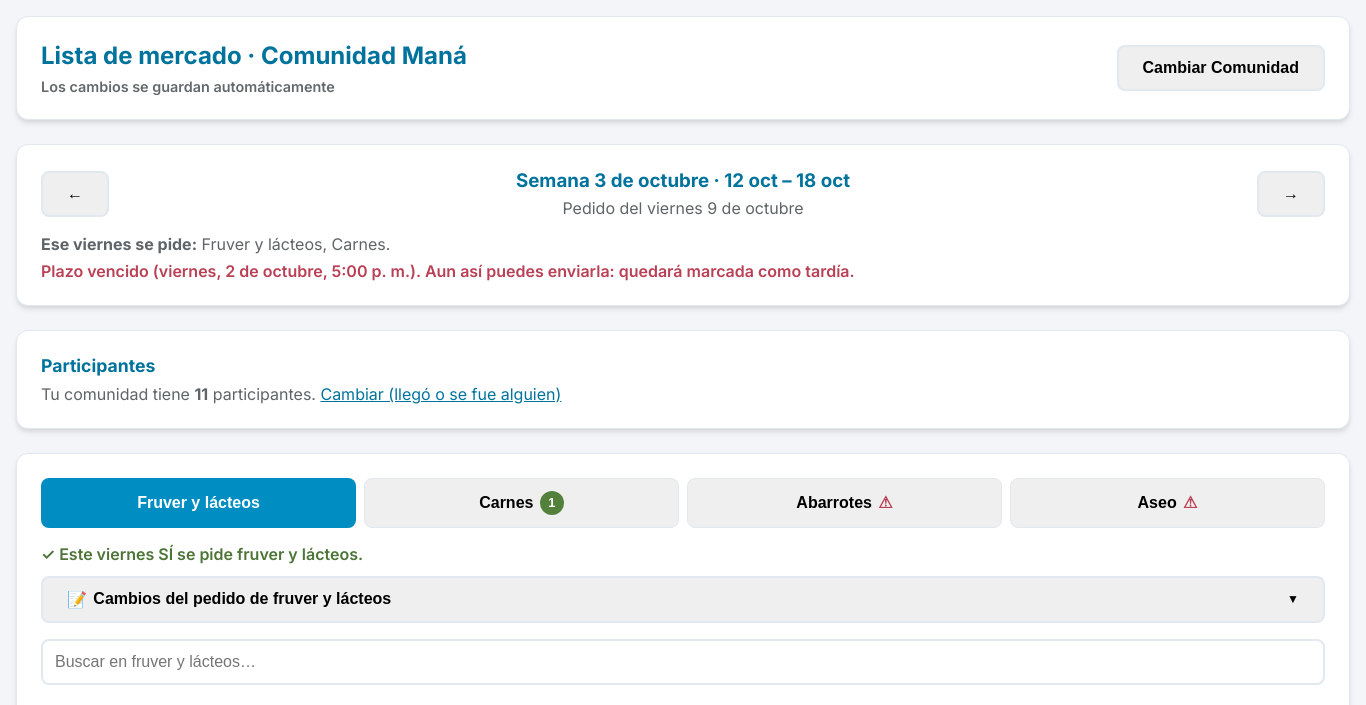
lista de mercado de la comunidad: toasts › agregar, editar y quitar un cambio avisan cada uno
Click the button "📝 Cambios del pedido de fruver y lácteos ▼": click(183, 599) [41,576,1325,623]
(page scrolled)
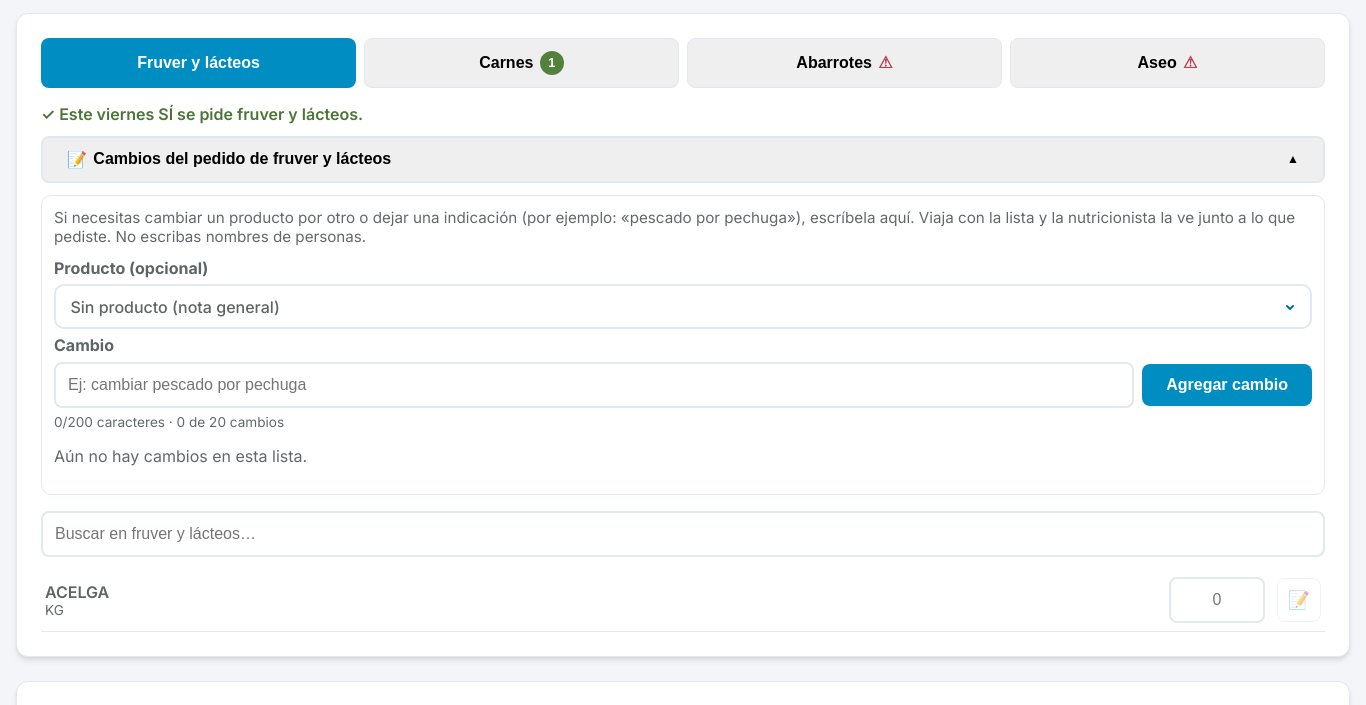
In the field labelled "Cambio": (594, 385) [54,362,1134,408], type "Entregar temprano"
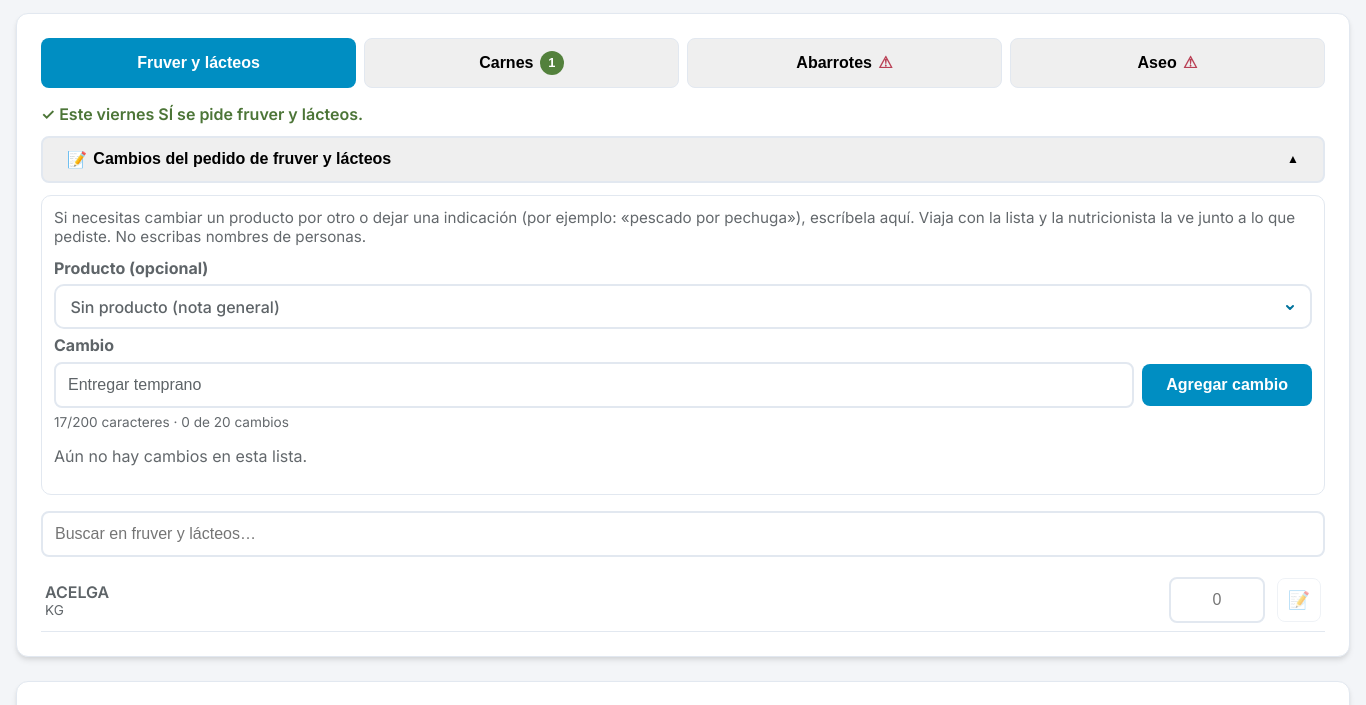
Click the button "Agregar cambio": click(1227, 385) [1142,364,1312,406]
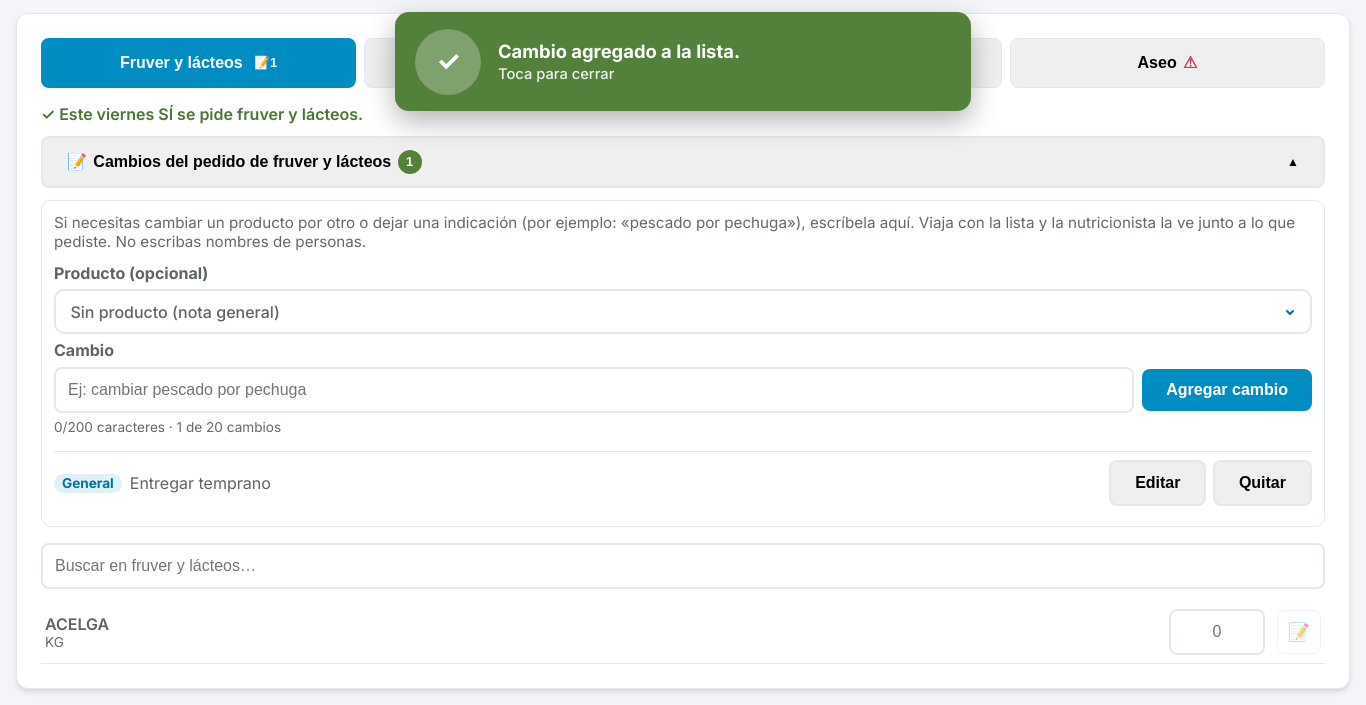
Click the button with aria-label "Editar el cambio: Entregar temprano": click(1158, 483) [1109,460,1206,506]
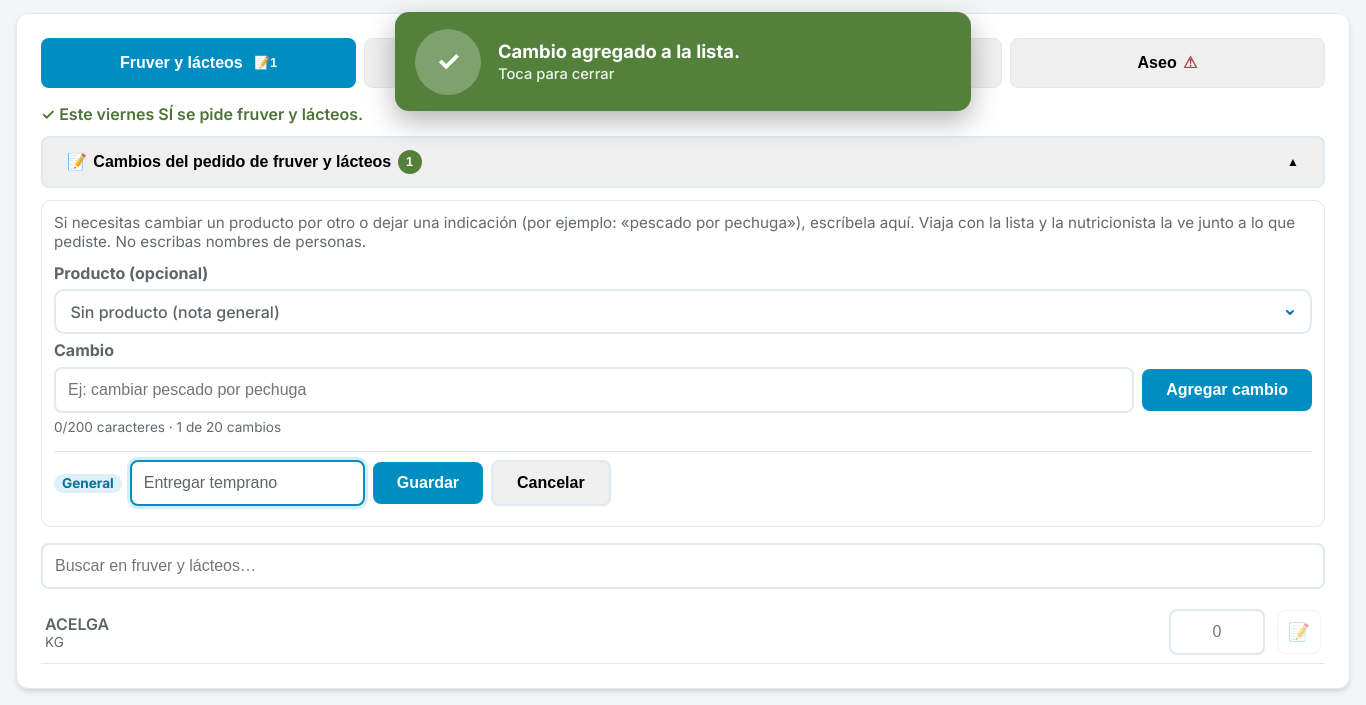
Replace the text in the field named "Editar el cambio" with "Entregar a las 7": (247, 483) [130,460,365,506]
Click the button "Guardar": click(428, 483) [373,462,483,504]
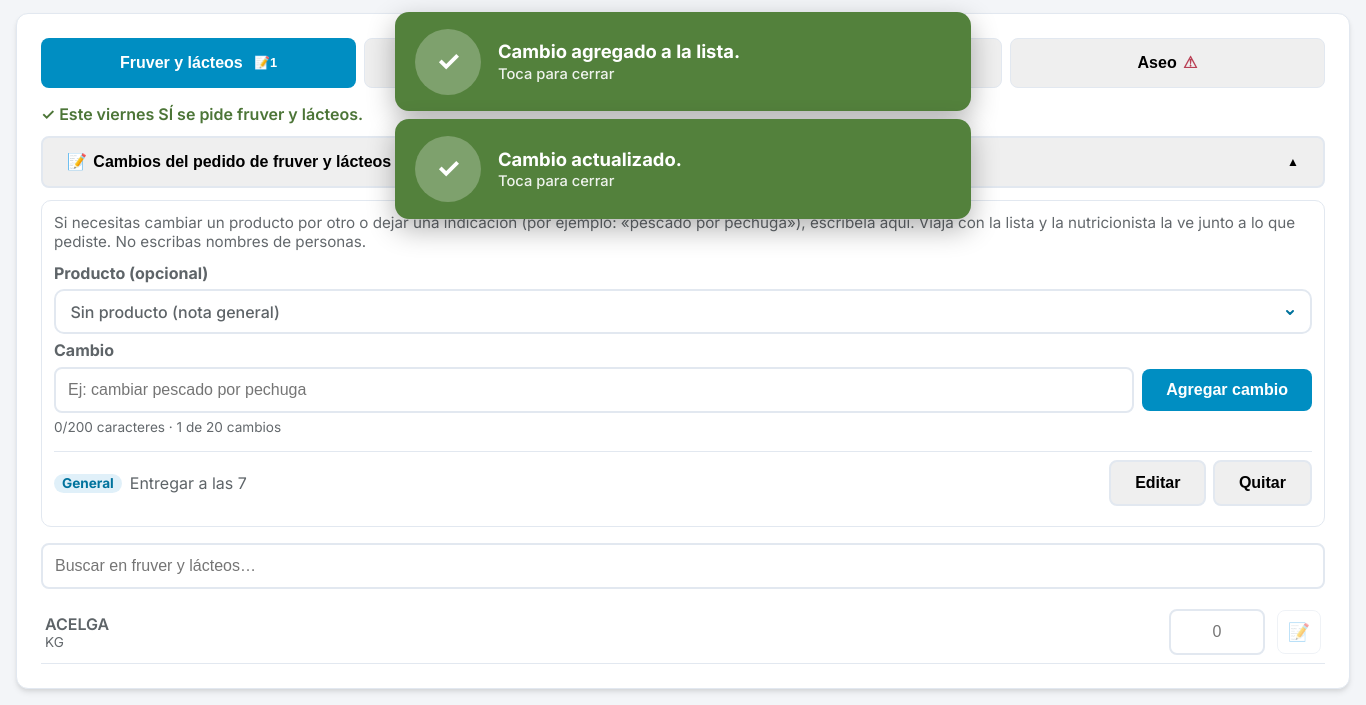
Result: the text "Cambio actualizado." is shown at [498,148,682,170]
Click the button with aria-label "Quitar el cambio: Entregar a las 7": click(1262, 483) [1213,460,1312,506]
Wait 700 ms
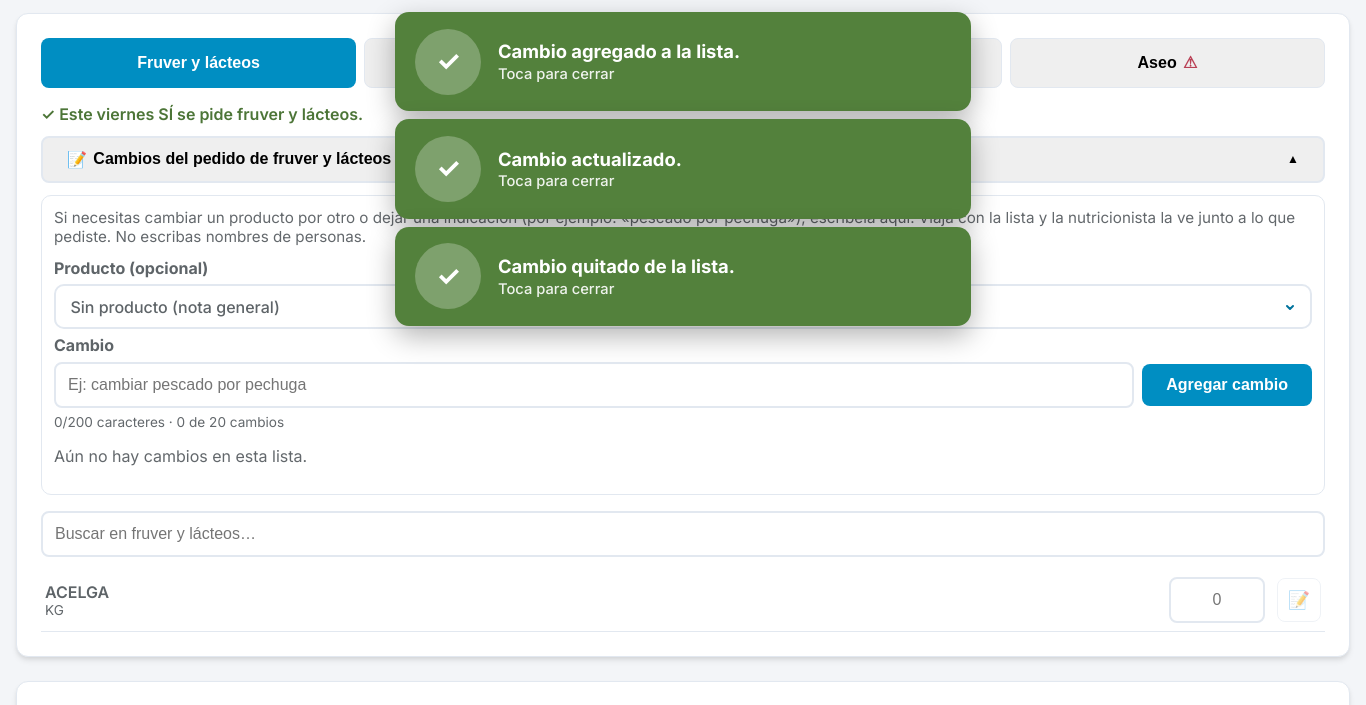
Result: the text "Cambio quitado de la lista." is shown at [498,255,735,277]
